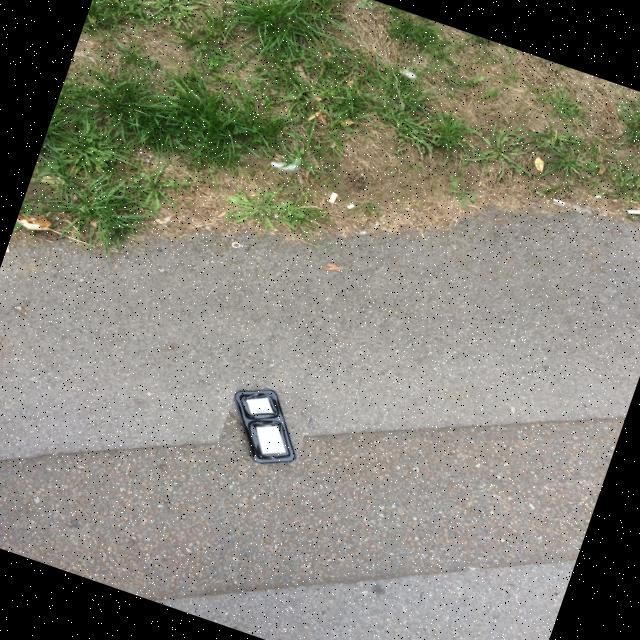Cigarette: (328, 193, 337, 204), (553, 199, 565, 205), (627, 210, 640, 214)
Disposable food container: (234, 390, 296, 464)
